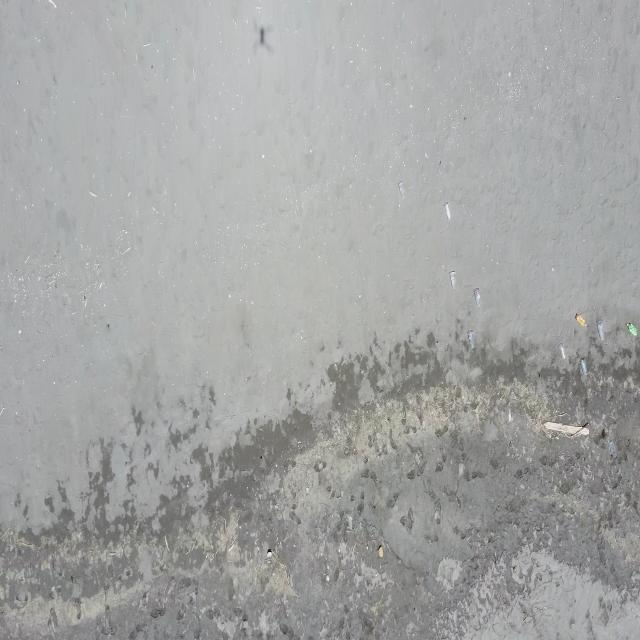plastic-bottle: (626, 322, 638, 336), (575, 313, 587, 327)
takeaway-cup: (466, 330, 476, 350), (608, 439, 618, 459), (473, 287, 482, 309), (397, 179, 406, 199), (597, 321, 605, 341), (449, 269, 457, 289), (443, 201, 451, 221), (558, 341, 566, 361), (580, 356, 588, 376)
